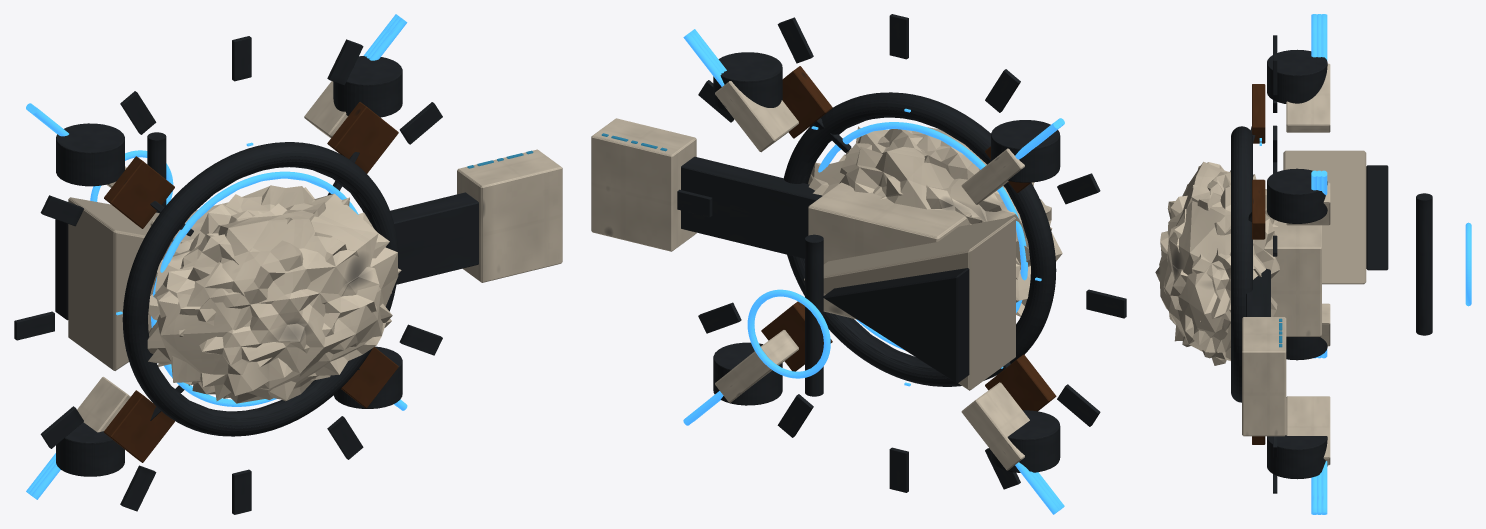
The model's file is place_claim_outpost_bastion.glb.
3 renders of one model, left to right at view 1: azimuth 30°, elevation 25°; view 2: azimuth 150°, elevation 25°; view 3: azimuth 270°, elevation 25°, orthographic. The views are drawn at different scales.
Visible parts, largest first — view 1: LOD0_Station_Material_Mechanical, LOD0_Station_Material_Hull, LOD1_Station_Material_Hull, LOD2_Station_Material_Hull, LOD1_Station_Material_Mechanical, LOD0_Station_Material_Warm, LOD2_Station_Material_Mechanical, LOD2_Station_Material_Warm, LOD0_Station_Material_Accent, LOD1_Station_Material_Warm, LOD2_Station_Material_Accent, LOD1_Station_Material_Accent; view 2: LOD0_Station_Material_Mechanical, LOD0_Station_Material_Hull, LOD1_Station_Material_Hull, LOD2_Station_Material_Hull, LOD1_Station_Material_Mechanical, LOD2_Station_Material_Mechanical, LOD0_Station_Material_Accent, LOD0_Station_Material_Warm, LOD2_Station_Material_Warm, LOD1_Station_Material_Warm, LOD1_Station_Material_Accent, LOD2_Station_Material_Accent; view 3: LOD0_Station_Material_Hull, LOD0_Station_Material_Mechanical, LOD2_Station_Material_Hull, LOD1_Station_Material_Hull, LOD1_Station_Material_Mechanical, LOD2_Station_Material_Mechanical, LOD0_Station_Material_Accent, LOD0_Station_Material_Warm, LOD2_Station_Material_Warm, LOD1_Station_Material_Warm, LOD1_Station_Material_Accent, LOD2_Station_Material_Accent.
Part boxes in pixels (bbox=[...]): LOD0_Station_Material_Mechanical: bbox=[14, 36, 477, 514]; LOD0_Station_Material_Hull: bbox=[69, 151, 560, 431]; LOD1_Station_Material_Hull: bbox=[69, 112, 561, 431]; LOD2_Station_Material_Hull: bbox=[68, 81, 562, 432]; LOD1_Station_Material_Mechanical: bbox=[14, 41, 478, 511]; LOD0_Station_Material_Warm: bbox=[105, 104, 396, 460]; LOD2_Station_Material_Mechanical: bbox=[14, 39, 478, 511]; LOD2_Station_Material_Warm: bbox=[104, 102, 398, 462]; LOD0_Station_Material_Accent: bbox=[26, 14, 407, 499]; LOD1_Station_Material_Warm: bbox=[104, 102, 397, 461]; LOD2_Station_Material_Accent: bbox=[28, 16, 400, 496]; LOD1_Station_Material_Accent: bbox=[27, 15, 405, 498]; LOD0_Station_Material_Mechanical: bbox=[677, 14, 1126, 492]; LOD0_Station_Material_Hull: bbox=[593, 94, 1051, 467]; LOD1_Station_Material_Hull: bbox=[591, 82, 1052, 469]; LOD2_Station_Material_Hull: bbox=[591, 81, 1062, 470]; LOD1_Station_Material_Mechanical: bbox=[677, 19, 1125, 488]; LOD2_Station_Material_Mechanical: bbox=[677, 17, 1126, 489]; LOD0_Station_Material_Accent: bbox=[683, 29, 1064, 514]; LOD0_Station_Material_Warm: bbox=[763, 72, 1054, 410]; LOD2_Station_Material_Warm: bbox=[761, 66, 1056, 410]; LOD1_Station_Material_Warm: bbox=[762, 66, 1055, 410]; LOD1_Station_Material_Accent: bbox=[684, 30, 1063, 514]; LOD2_Station_Material_Accent: bbox=[690, 31, 1061, 510]; LOD0_Station_Material_Hull: bbox=[1155, 66, 1361, 462]; LOD0_Station_Material_Mechanical: bbox=[1231, 36, 1432, 493]; LOD2_Station_Material_Hull: bbox=[1167, 63, 1366, 465]; LOD1_Station_Material_Hull: bbox=[1159, 65, 1365, 464]; LOD1_Station_Material_Mechanical: bbox=[1233, 35, 1432, 492]; LOD2_Station_Material_Mechanical: bbox=[1234, 35, 1429, 493]; LOD0_Station_Material_Accent: bbox=[1259, 14, 1471, 514]; LOD0_Station_Material_Warm: bbox=[1253, 85, 1263, 437]; LOD2_Station_Material_Warm: bbox=[1252, 84, 1265, 444]; LOD1_Station_Material_Warm: bbox=[1253, 84, 1264, 444]; LOD1_Station_Material_Accent: bbox=[1259, 14, 1469, 514]; LOD2_Station_Material_Accent: bbox=[1316, 14, 1321, 514].
Size of what is drawn, in the model's own units: 97 by 83 by 57.22.
Materials: 5 (5 with a texture image).
